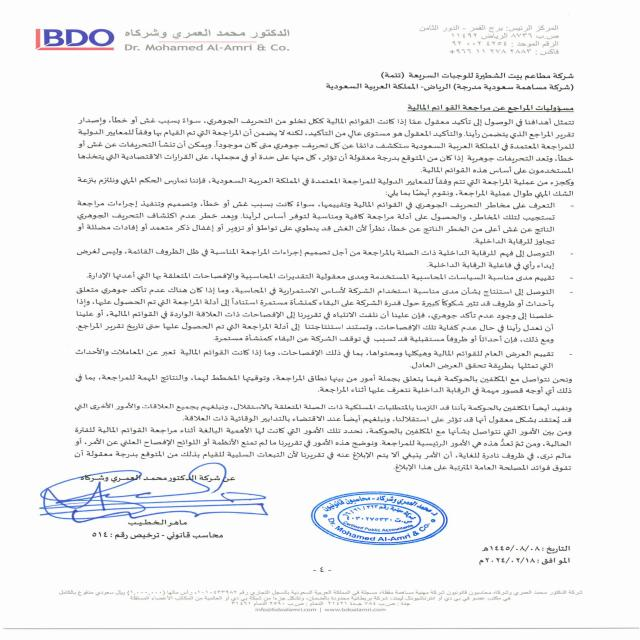auditor_report: (390, 103, 574, 114)
